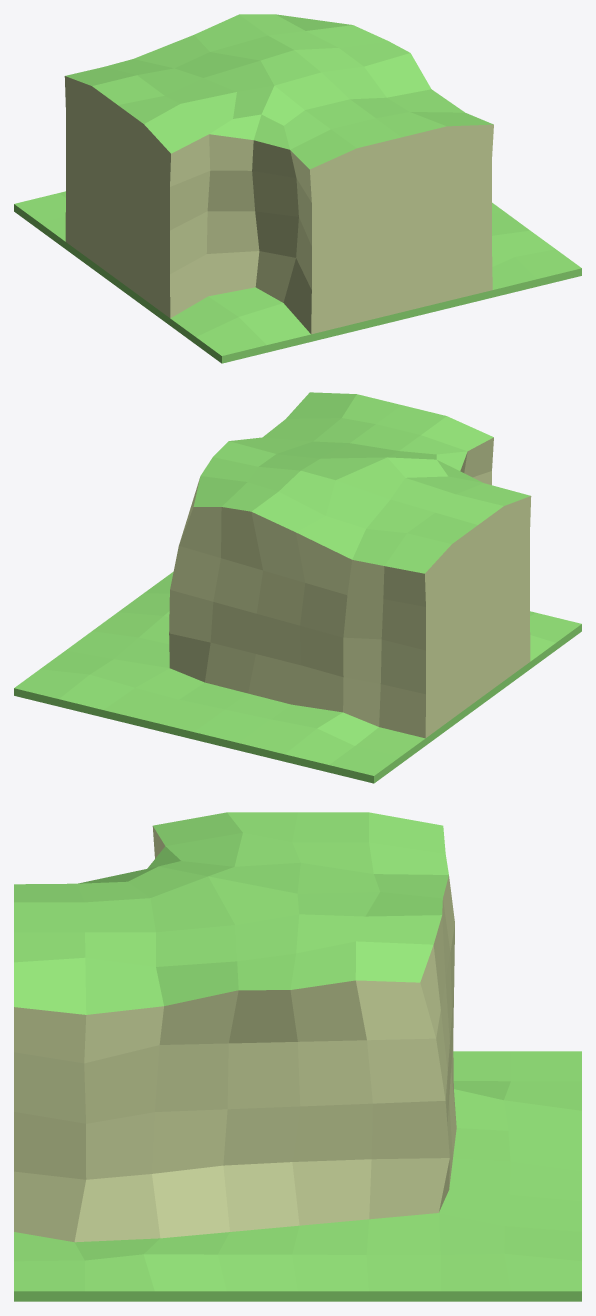
File: wall_slim_join2_1.glb
The picture shows the model from 3 angles, top to bottom: view 1: azimuth 30°, elevation 25°; view 2: azimuth 150°, elevation 25°; view 3: azimuth 270°, elevation 25°; orthographic projection. The views are drawn at different scales.
Visible parts, largest first — view 1: wall_slim_join2_1; view 2: wall_slim_join2_1; view 3: wall_slim_join2_1.
Part boxes in pixels (bbox=[...]): wall_slim_join2_1: bbox=[14, 14, 581, 363]; wall_slim_join2_1: bbox=[14, 392, 581, 783]; wall_slim_join2_1: bbox=[14, 812, 581, 1301].
Bounding box in the file's own units: 2 × 1.04 × 2.
